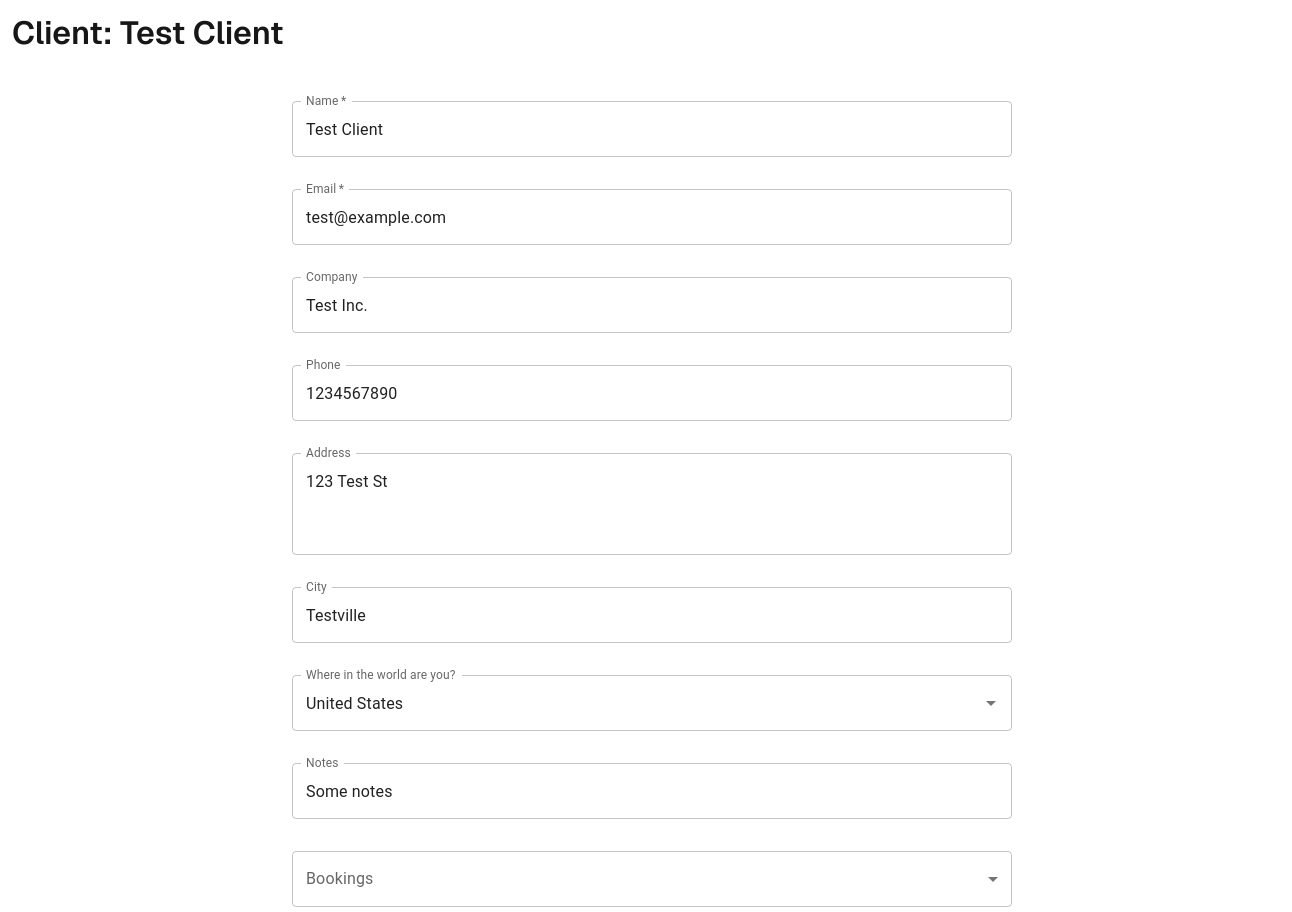
Test: ClientForm › renders bookings with correct links
The width and height of the screenshot is (1292, 912).
// Open the select dropdown
Press the mouse on the dropdown named "bookings" at [652, 879], box [292,851,1012,907]
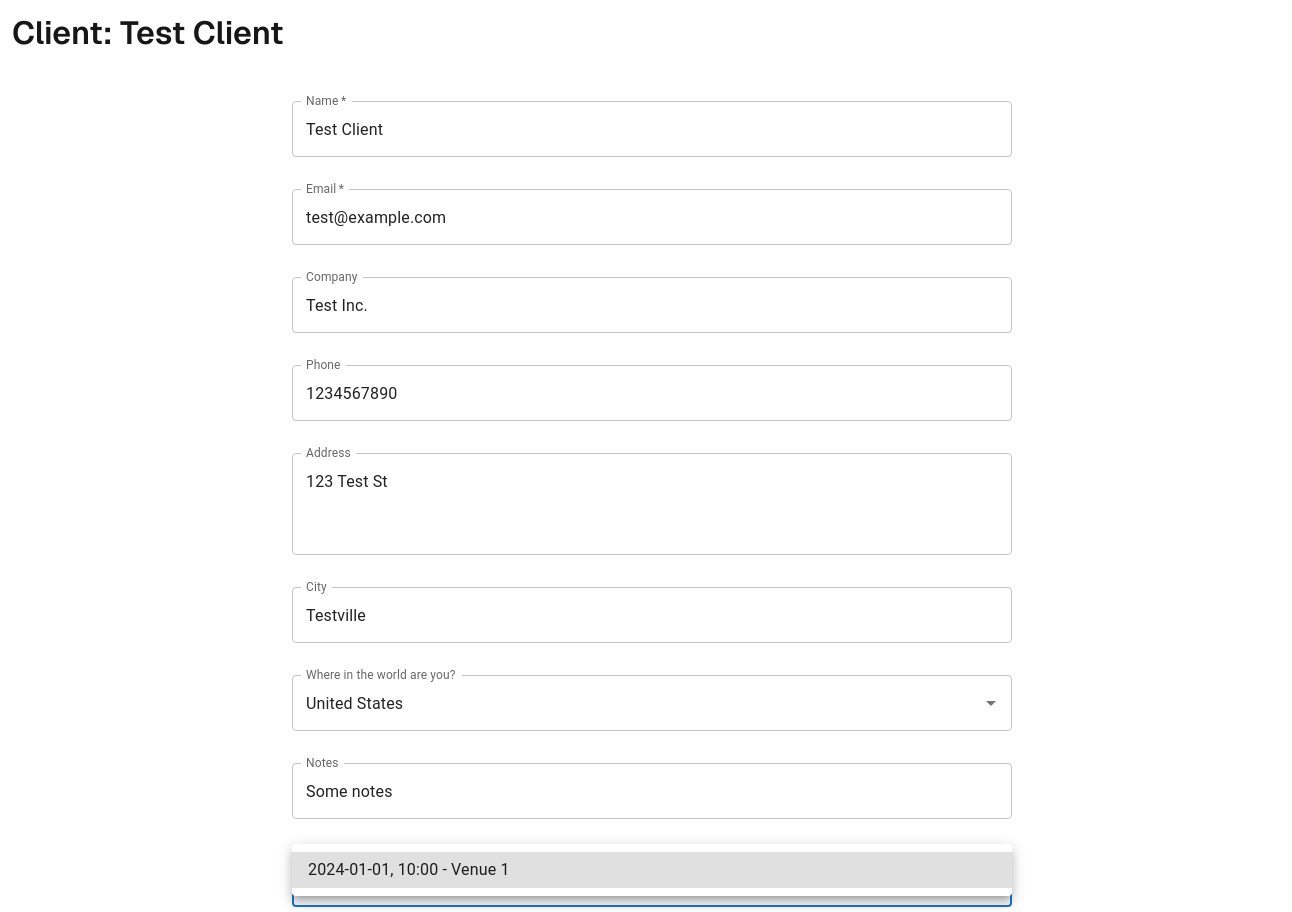
Expected: the link "2024-01-01, 10:00 - Venue 1" is shown, [308,858,510,882]
